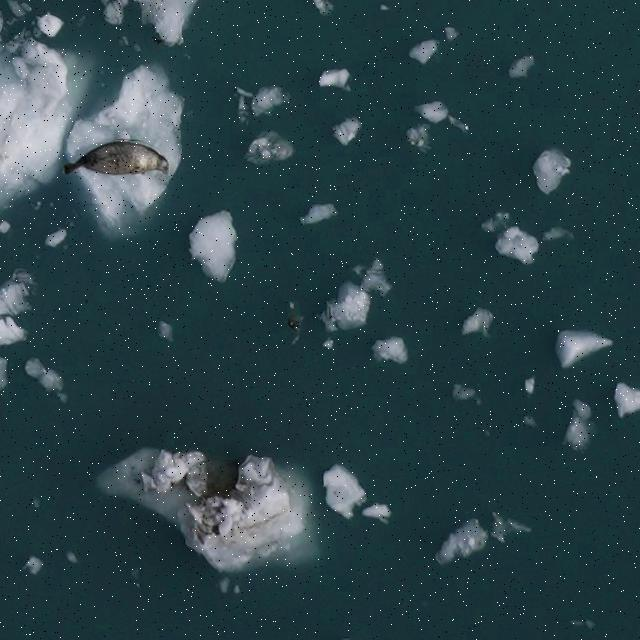seal: (63, 140, 170, 175)
